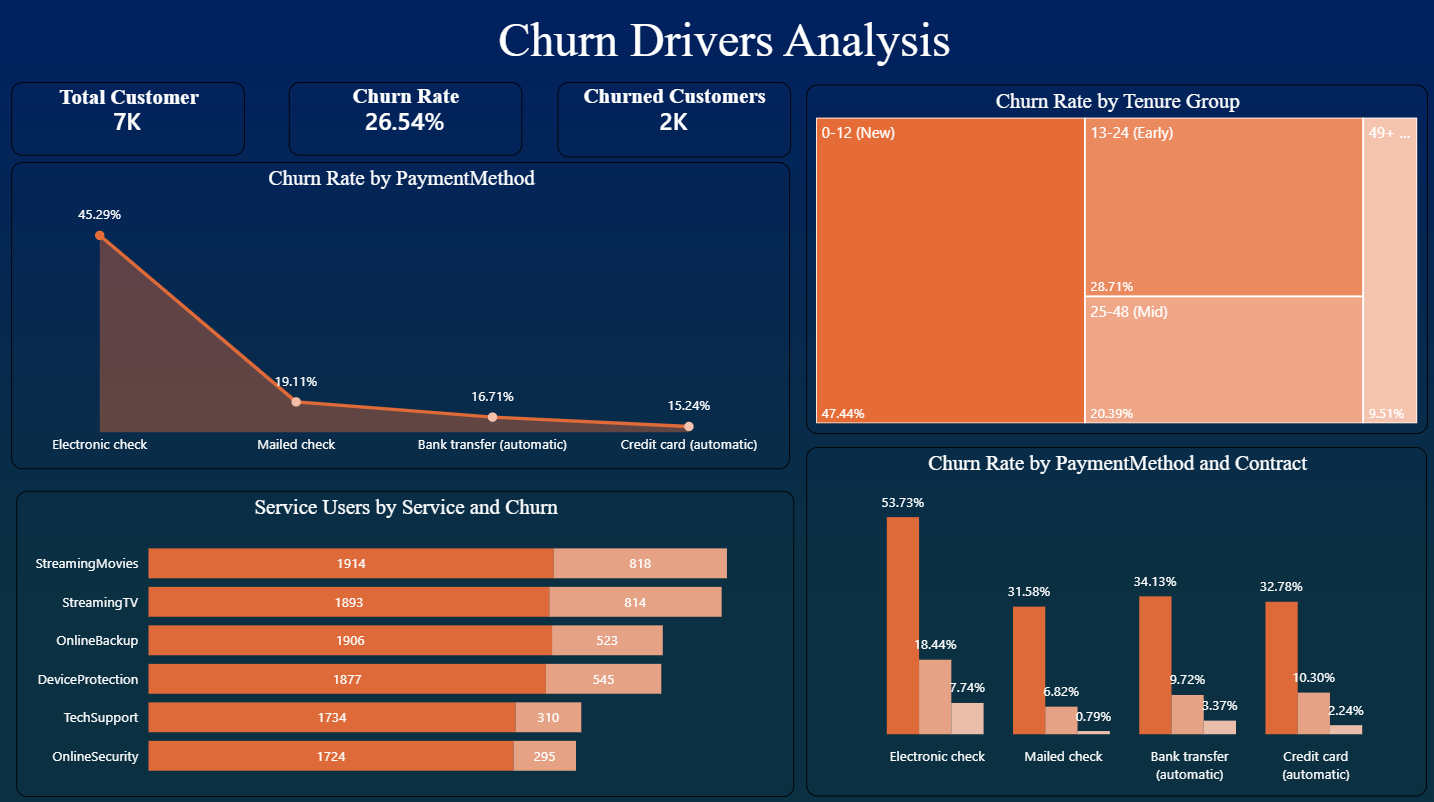

This screenshot's page, from the dashboard's own definition file:
{"tool":"powerbi","page":{"name":"Churn Drivers Analysis","canvas":[1280,720],"ordinal":1},"visuals":[{"type":"barChart","fields":{"Category":["service impact.Service"],"Y":["service impact.Service Users"],"Series":["service impact.Churn"]},"box":[14.2,439.5,692.6,273.1],"z":0},{"type":"areaChart","fields":{"Category":["telco customer churn.PaymentMethod"],"Y":["telco customer churn.Churn Rate"]},"box":[9.7,147.2,693.7,273.9],"z":1000},{"type":"textbox","box":[9.8,8.6,1270.2,70.1],"z":2000},{"type":"treemap","fields":{"Group":["telco customer churn.Tenure Group"],"Values":["telco customer churn.Churn Rate"]},"box":[718.2,78.2,553.2,311],"z":3000},{"type":"clusteredColumnChart","fields":{"Category":["telco customer churn.PaymentMethod"],"Series":["telco customer churn.Contract"],"Y":["telco customer churn.Churn Rate"]},"box":[718.2,401.1,553,311],"z":4000},{"type":"cardVisual","fields":{"Data":["telco customer churn.Total Customer"]},"box":[10,75.4,207.6,65.4],"z":5000},{"type":"cardVisual","fields":{"Data":["telco customer churn.Churn Rate"]},"box":[257.4,75.4,207.6,65.4],"z":6000},{"type":"cardVisual","fields":{"Data":["telco customer churn.Churned Customers"]},"box":[496.4,75.4,207.6,66.8],"z":7000},{"type":"textbox","box":[489.2,72.5,221.9,35.6],"z":8000},{"type":"textbox","box":[281.6,72.5,159.3,37],"z":9000},{"type":"textbox","box":[34.1,74,160.7,35.6],"z":10000}]}

Visuals, with their boxes in screenshot pixels (x1, y1, x2, y2), scaled from the page's 1280x720 canvas onto the 1434x802 screenshot:
barChart - service impact.Service x service impact.Service Users: 16, 490, 792, 794
areaChart - telco customer churn.PaymentMethod x telco customer churn.Churn Rate: 11, 164, 788, 469
textbox: 11, 10, 1433, 88
treemap - telco customer churn.Tenure Group x telco customer churn.Churn Rate: 805, 87, 1424, 434
clusteredColumnChart - telco customer churn.PaymentMethod x telco customer churn.Contract: 805, 447, 1424, 793
cardVisual - telco customer churn.Total Customer: 11, 84, 244, 157
cardVisual - telco customer churn.Churn Rate: 288, 84, 521, 157
cardVisual - telco customer churn.Churned Customers: 556, 84, 789, 158
textbox: 548, 81, 797, 120
textbox: 315, 81, 494, 122
textbox: 38, 82, 218, 122
